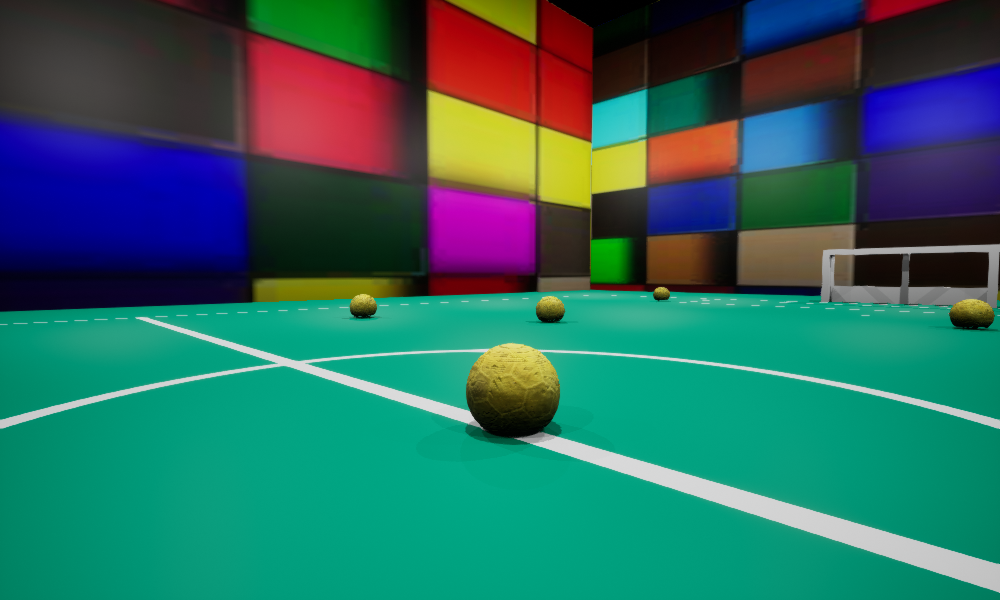b: (466, 343, 559, 435), (949, 299, 994, 329), (536, 296, 564, 322), (350, 294, 376, 317), (653, 287, 669, 300)
g: (821, 244, 999, 307)
